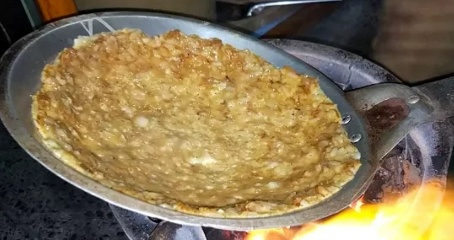kerak_telor: (31, 27, 364, 218)
